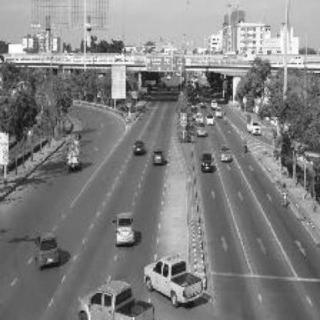other: (132, 256, 210, 306), (29, 227, 63, 269)
